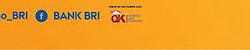ojk: (110, 8, 146, 25)
